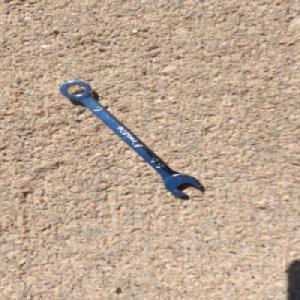Wrench: (57, 79, 204, 198)
